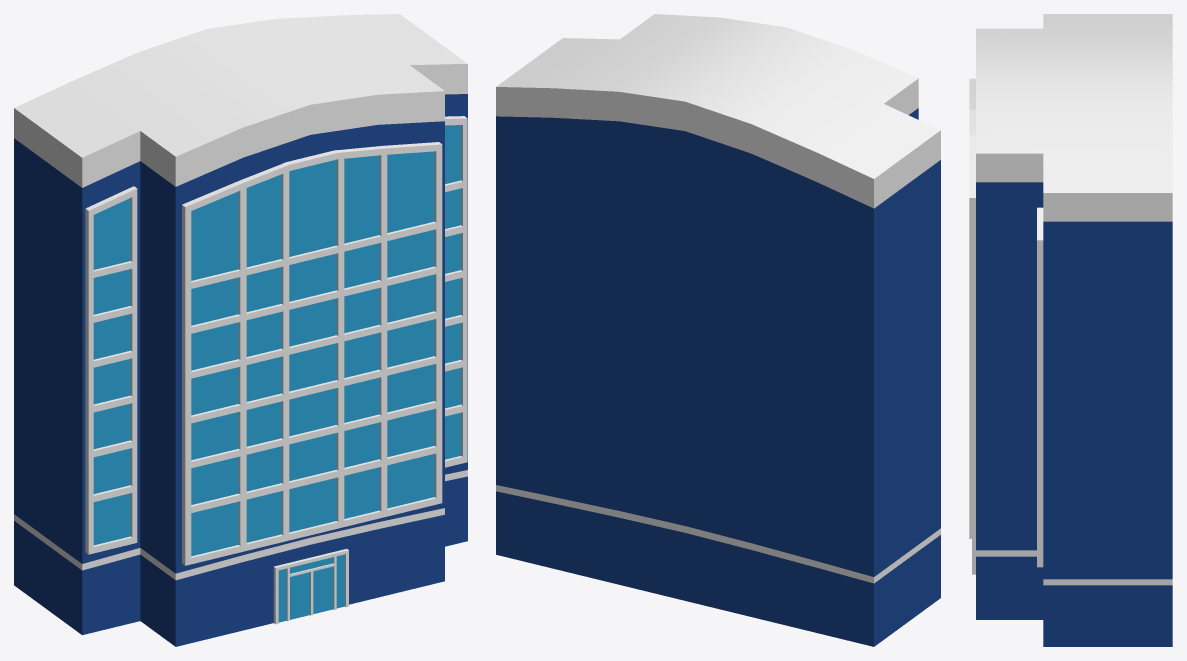
Rendered from Building_01.fbx.
The picture shows the model from 3 angles, left to right: view 1: azimuth 30°, elevation 25°; view 2: azimuth 150°, elevation 25°; view 3: azimuth 270°, elevation 25°; orthographic projection. The views are drawn at different scales.
Visible parts, largest first — view 1: B1; view 2: B1; view 3: B1.
Part boxes in pixels (box(x1,y1,x2,y2)): B1: box(14, 14, 467, 646); B1: box(496, 14, 940, 646); B1: box(969, 14, 1172, 646).
Size of the model in its own units: 31.5 by 39.76 by 15.13.
Materials: 1 (1 with a texture image).
